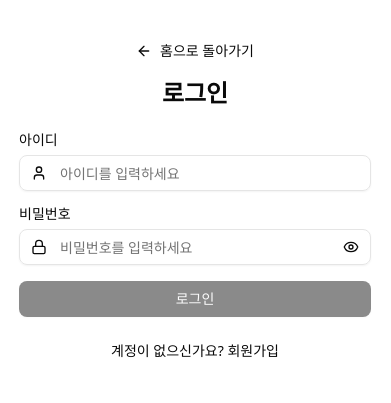
Test: LoginPage › 아이디 특수문자 validation 테스트
The width and height of the screenshot is (391, 403).
Type "test@123" into the field labelled "아이디" at (195, 173), box 19,155 -> 371,191
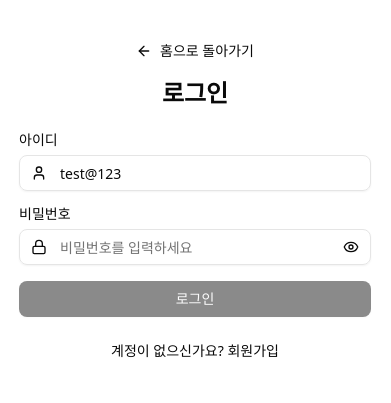
Click the button "로그인" at (195, 299), box 19,281 -> 371,317
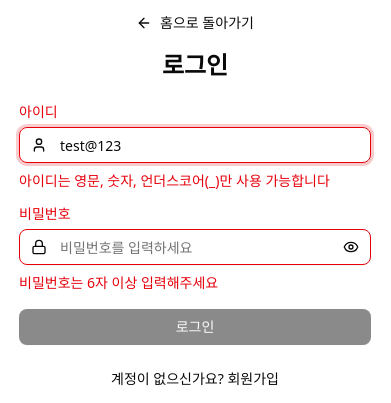
Expected: the text "아이디는 영문, 숫자, 언더스코어(_)만 사용 가능합니다" is shown, 19,171 -> 371,191
